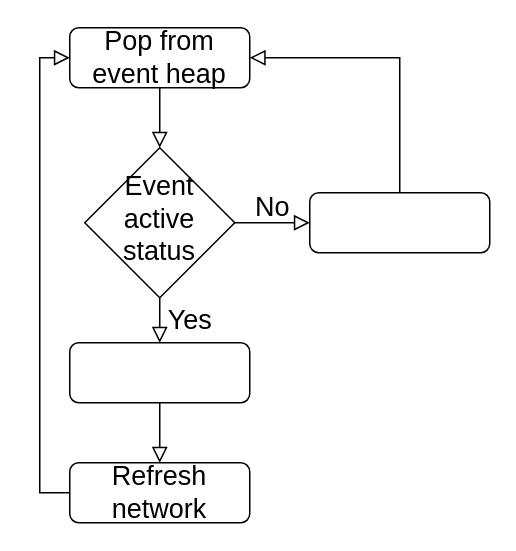
Image size: 516x551. Some labels were removed from this diagram. The shapes that lost their labels are listed below. From the top down, each one's centre as x and y in pixels, then its label:
the point at 399,222: Skip
the point at 159,372: Event work
